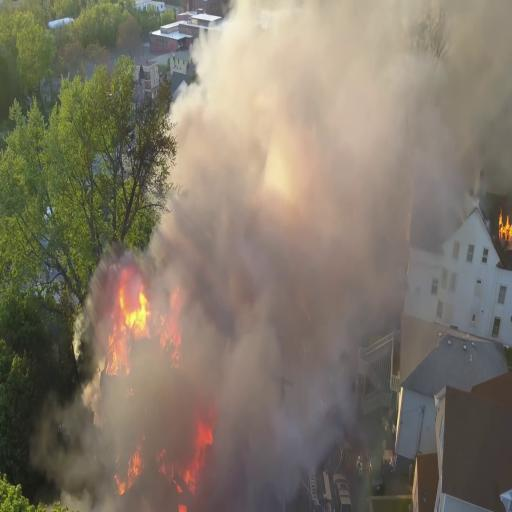fire: (116, 266, 151, 336), (489, 206, 512, 252)
smoke: (235, 42, 317, 445)
